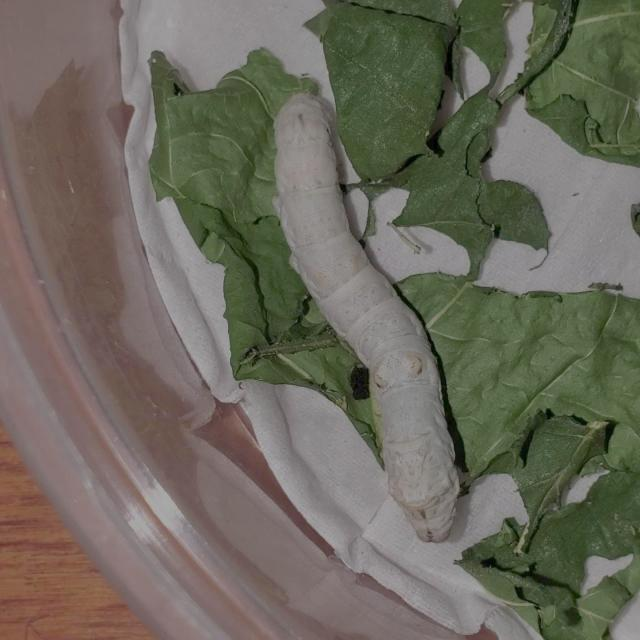Healthy: (259, 83, 470, 547)
